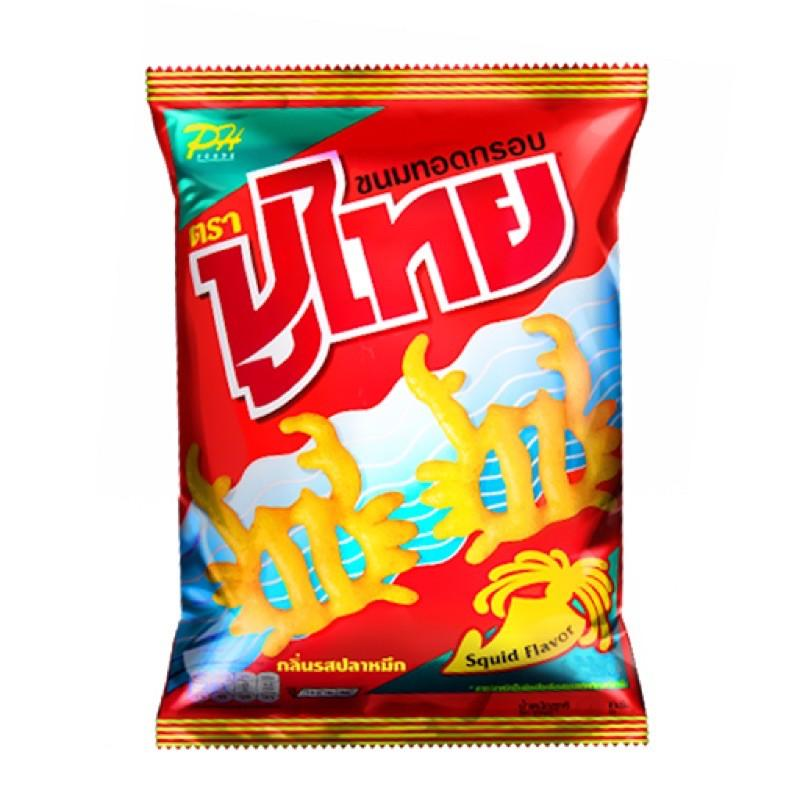plastic: (134, 56, 667, 764)
